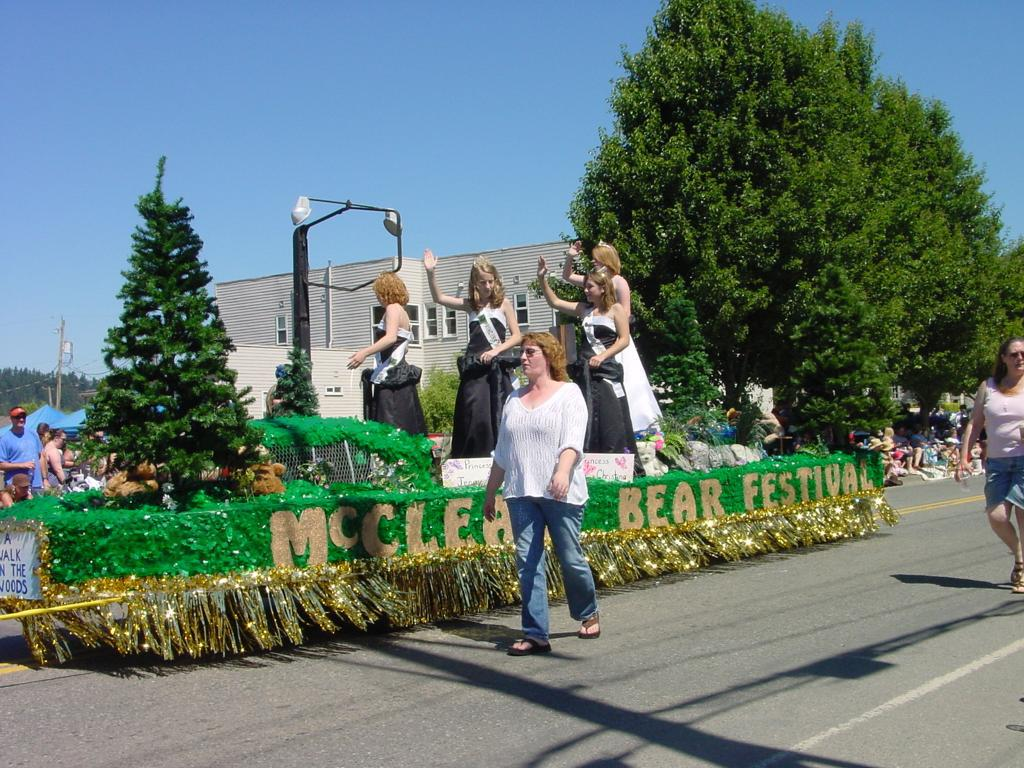face: (520, 338, 546, 376), (1007, 342, 1024, 376), (476, 271, 496, 298), (584, 278, 602, 303), (375, 283, 387, 307), (593, 252, 606, 272), (13, 413, 26, 427), (17, 483, 30, 496), (57, 433, 66, 447), (43, 427, 50, 437), (875, 445, 881, 452), (899, 429, 905, 436), (952, 431, 956, 437)
